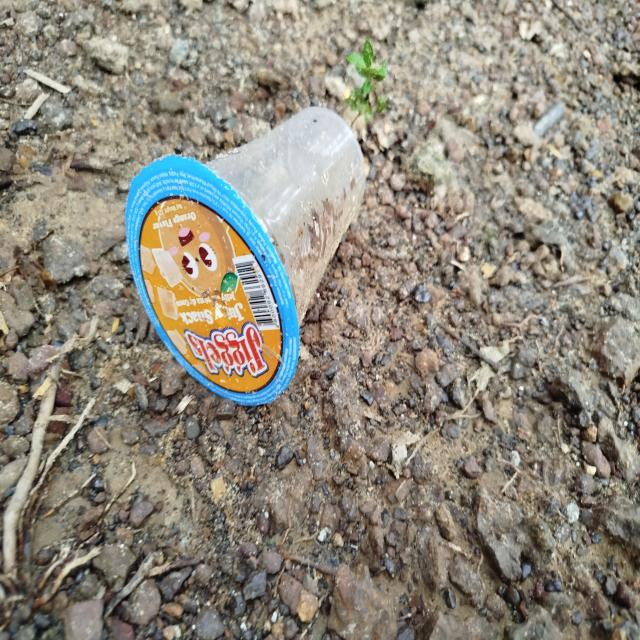plastic: (117, 91, 374, 424)
